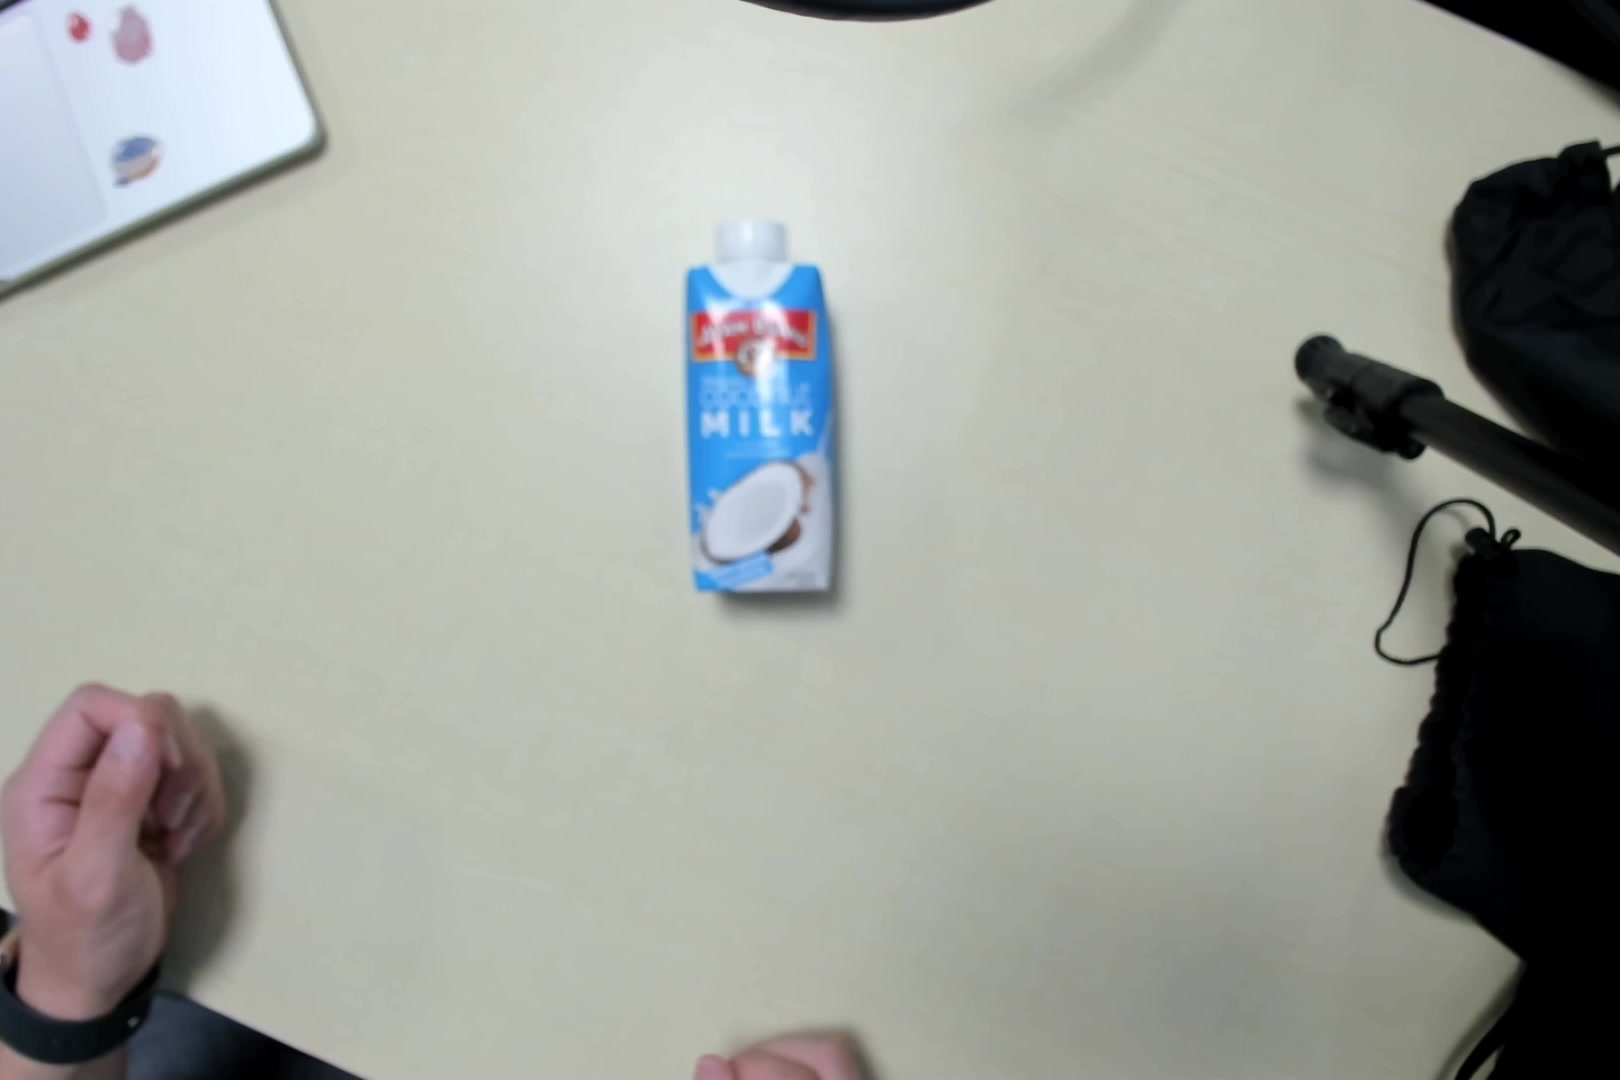CookingCreamMilk_300-399g_Halal_NonHealthy: (669, 202, 849, 604)
